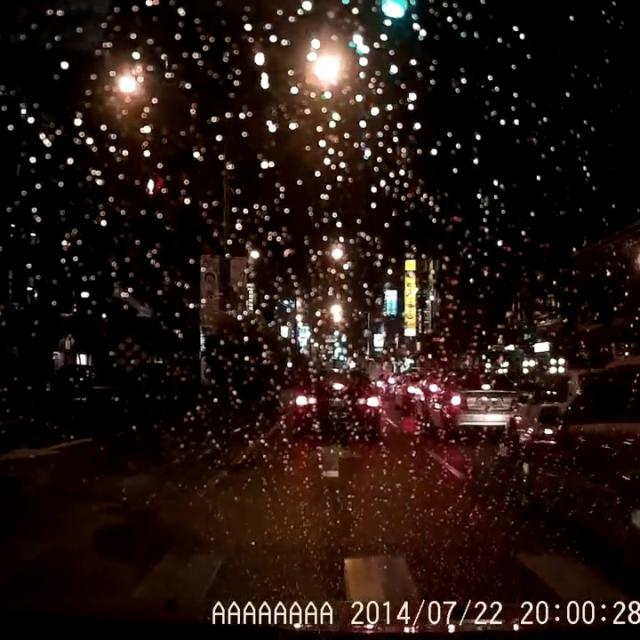Car: (489, 353, 639, 531), (409, 368, 524, 442), (286, 364, 383, 443)
